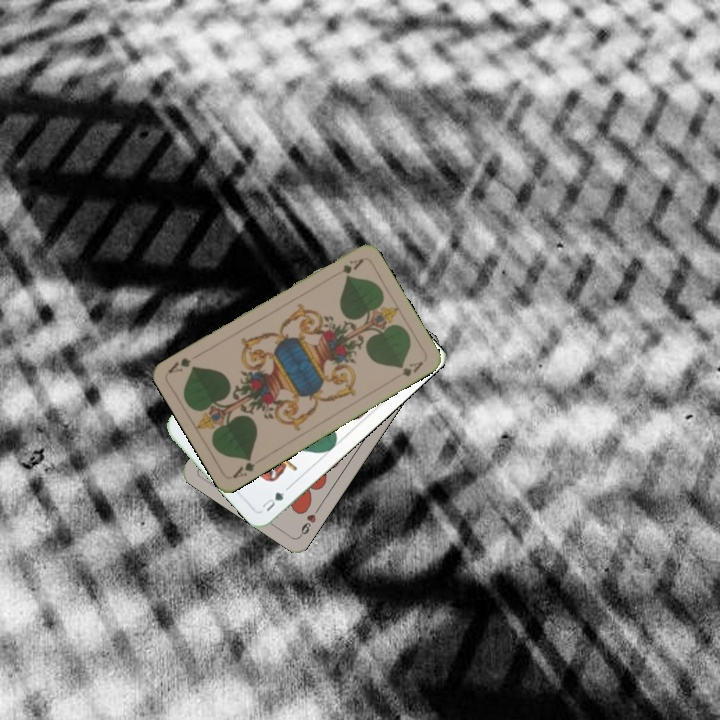GA: (228, 453, 258, 481), (338, 254, 366, 276)
GU: (257, 488, 287, 514)
H9: (296, 502, 322, 539)
